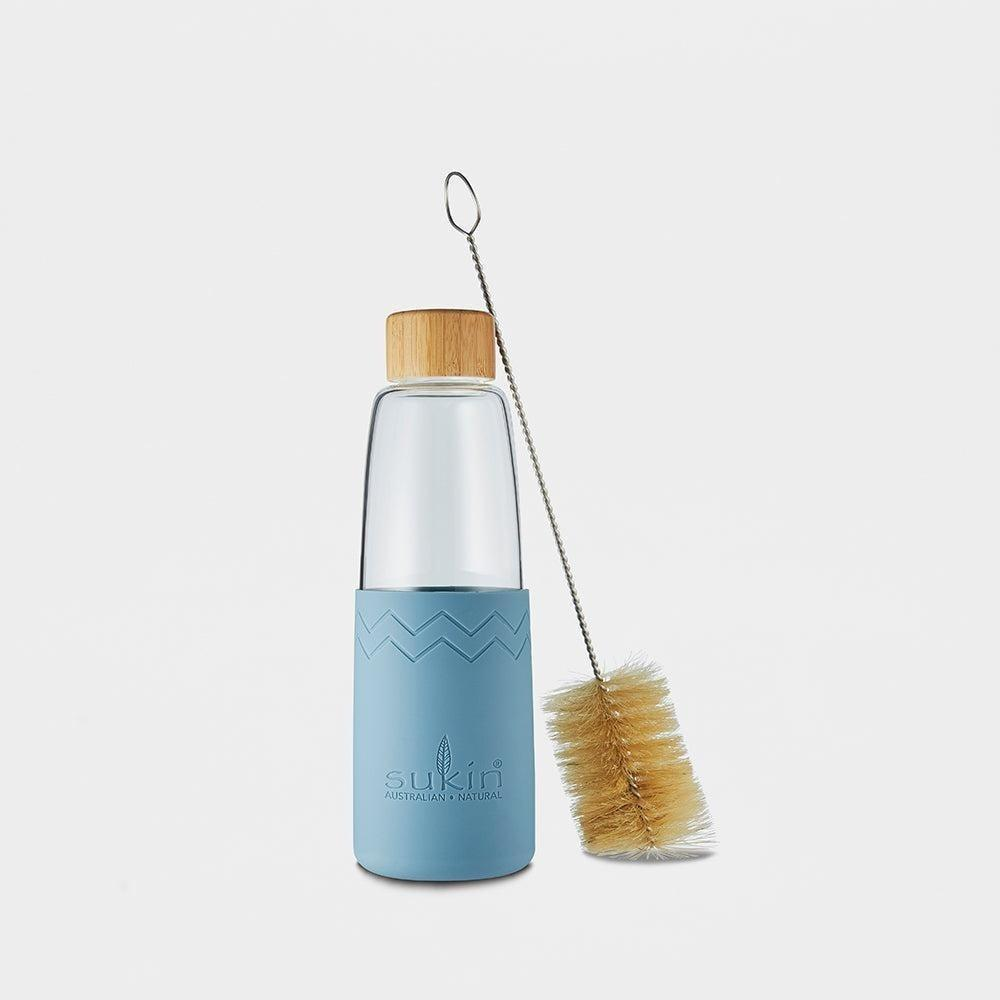gym bottle: (346, 303, 542, 890)
